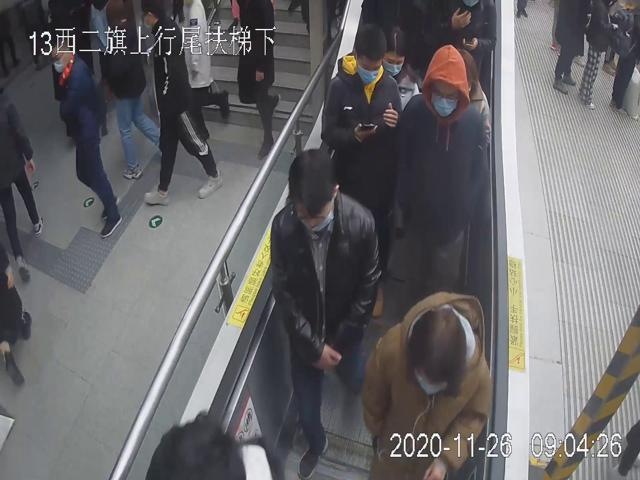person: (268, 149, 380, 480), (359, 288, 491, 480), (396, 43, 489, 302), (136, 2, 224, 206), (318, 16, 401, 209), (49, 32, 123, 240), (377, 19, 424, 109)
